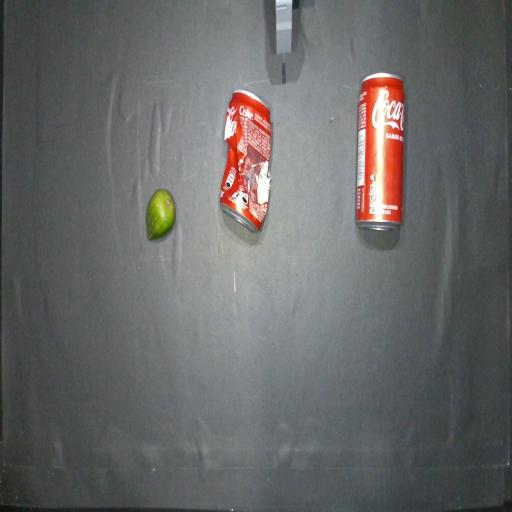higo: (146, 189, 175, 240)
lata: (356, 73, 404, 229)
lata_defectuoso: (220, 90, 271, 232)
